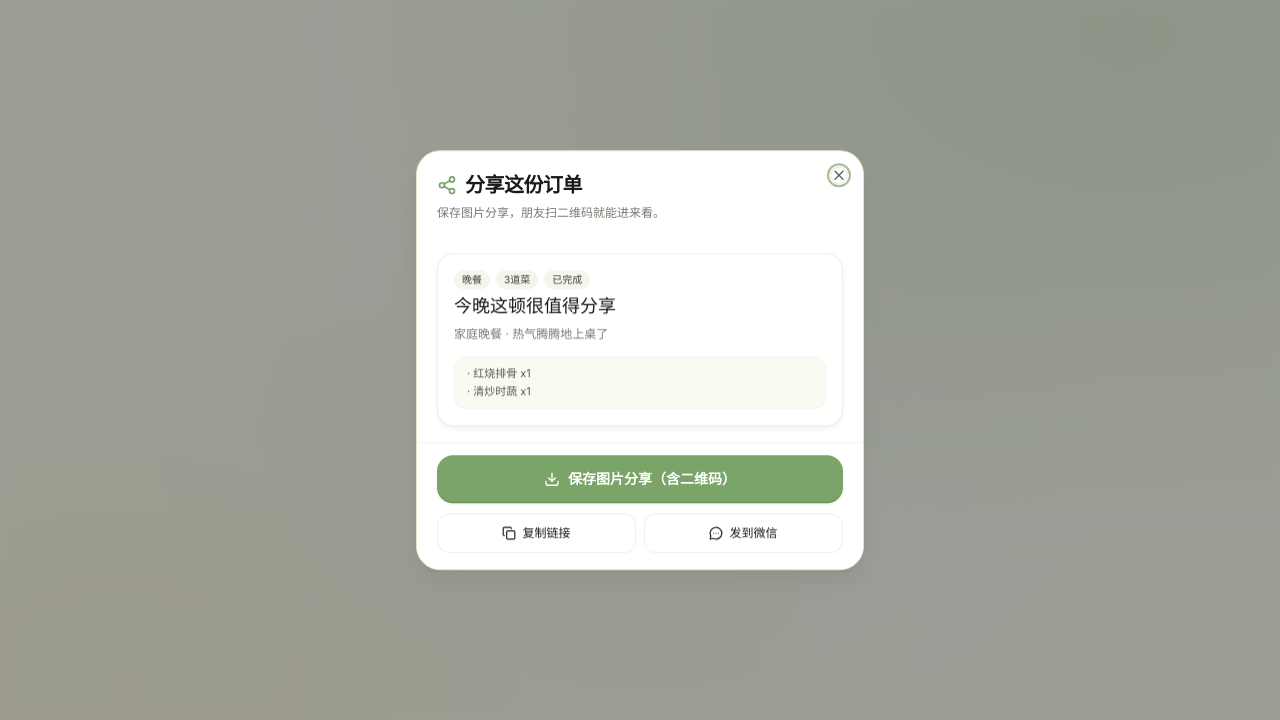
Test: ShareDialog › loads preview and copies link on action
Expected: the heading "今晚这顿很值得分享" is shown, [454, 296, 616, 316]
Click the button "复制链接" at (536, 533), box [437, 513, 636, 553]
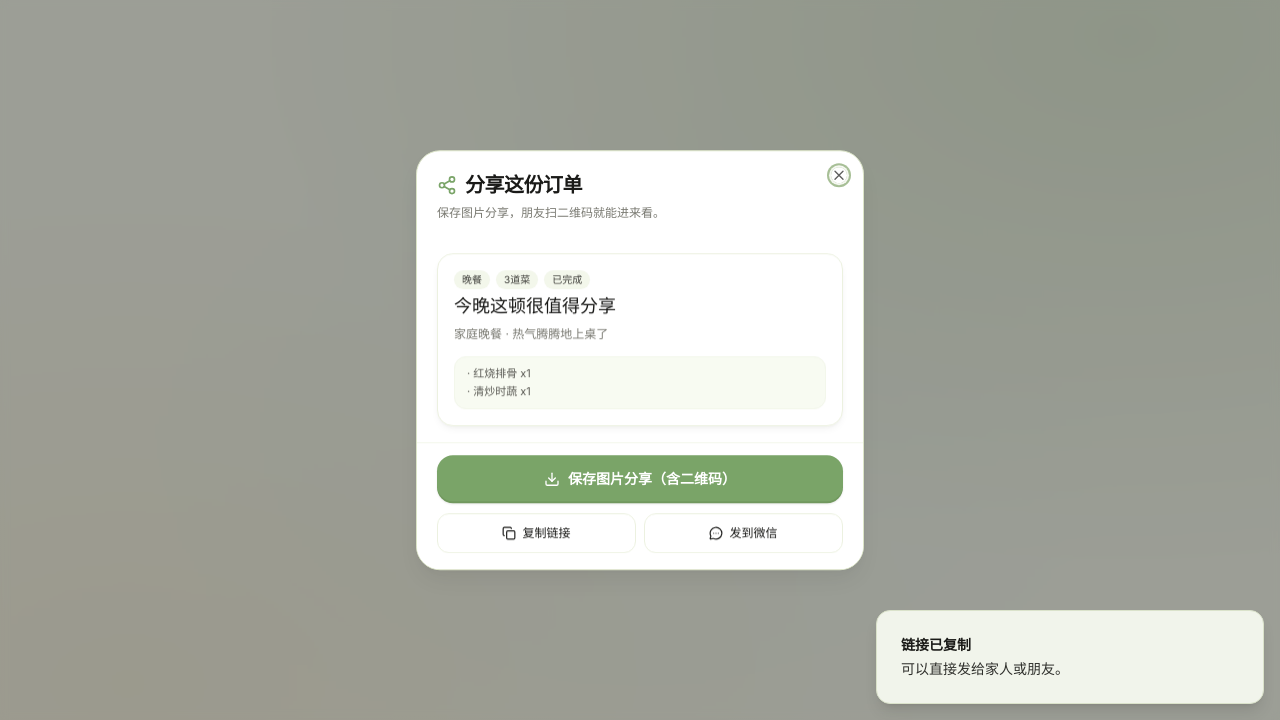
Expected: the text "链接已复制" is shown, [901, 636, 971, 653]
